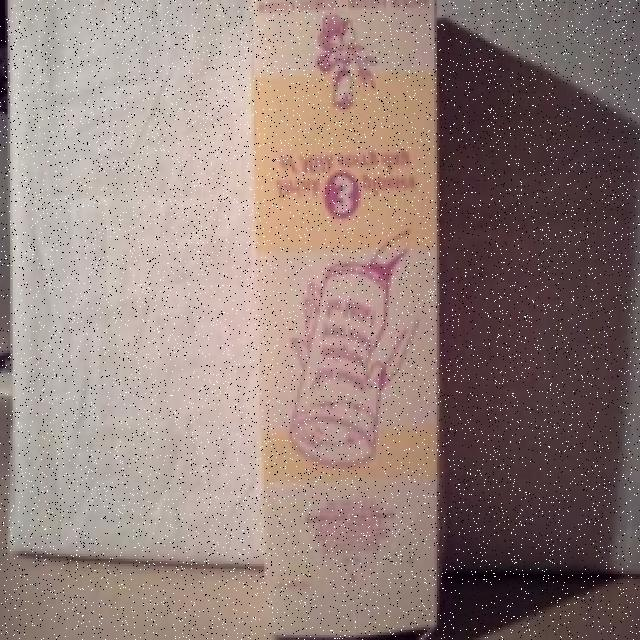box: (7, 0, 640, 546), (271, 0, 454, 638)
